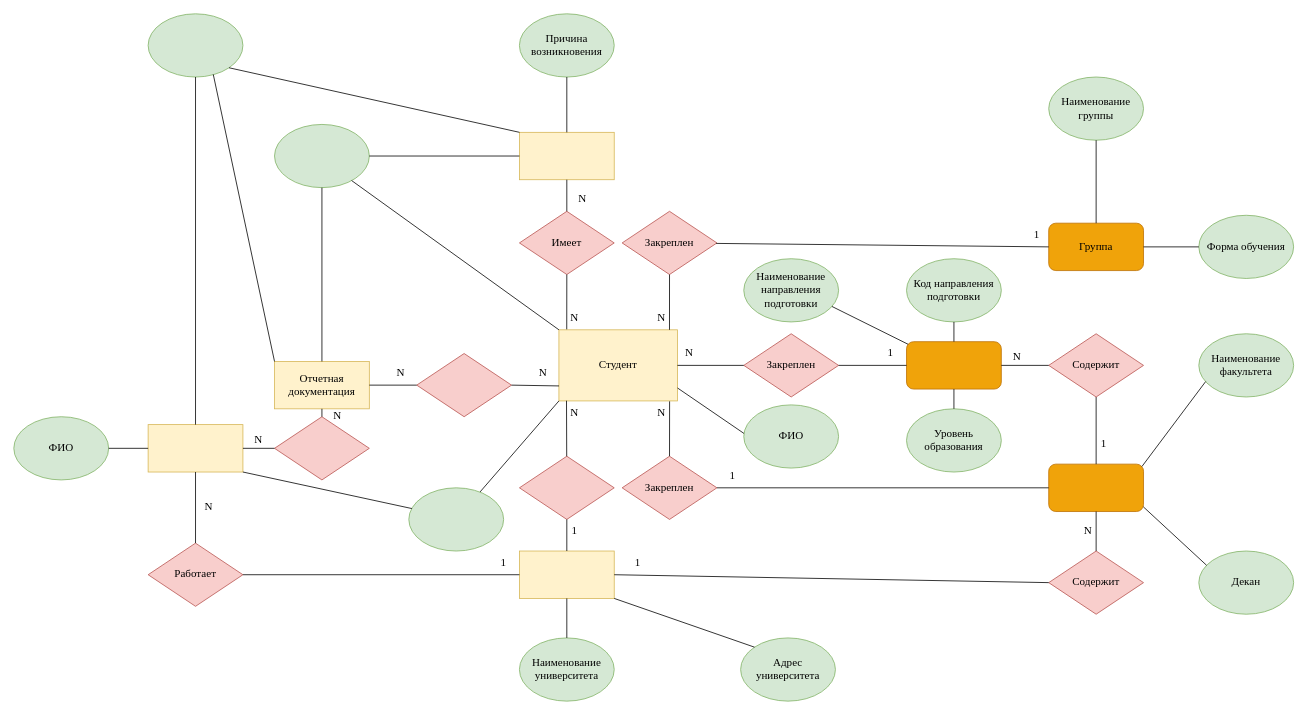
Image size: 1307x715. Some labels were removed from this diagram. Each missing label, with the box of its shape:
Академическая задолженность: (519, 132, 614, 180)
Дисциплина: (274, 124, 369, 188)
Направление подготовки: (906, 341, 1001, 389)
Оценка: (147, 13, 243, 77)
Рекомендация: (408, 487, 504, 551)
Сотрудник: (147, 424, 243, 472)
Университет: (519, 550, 614, 598)
Участвует: (416, 353, 512, 417)
Учиться: (519, 455, 614, 519)
Факультет: (1048, 463, 1144, 512)
Формирует: (274, 416, 369, 480)
